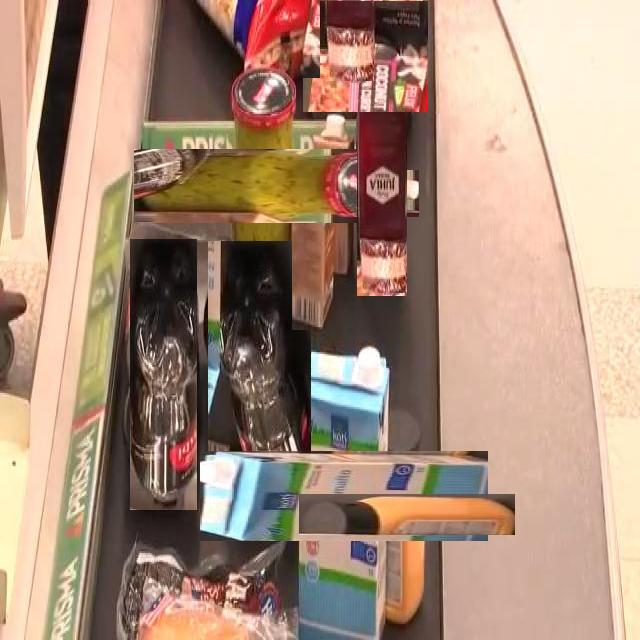beverage: (250, 401, 439, 591), (208, 240, 312, 524), (130, 238, 198, 510), (292, 159, 336, 330)
food-box: (180, 102, 350, 271), (106, 543, 296, 634), (342, 450, 472, 578), (302, 0, 428, 112), (356, 28, 407, 296), (288, 142, 391, 246), (196, 0, 320, 78)
